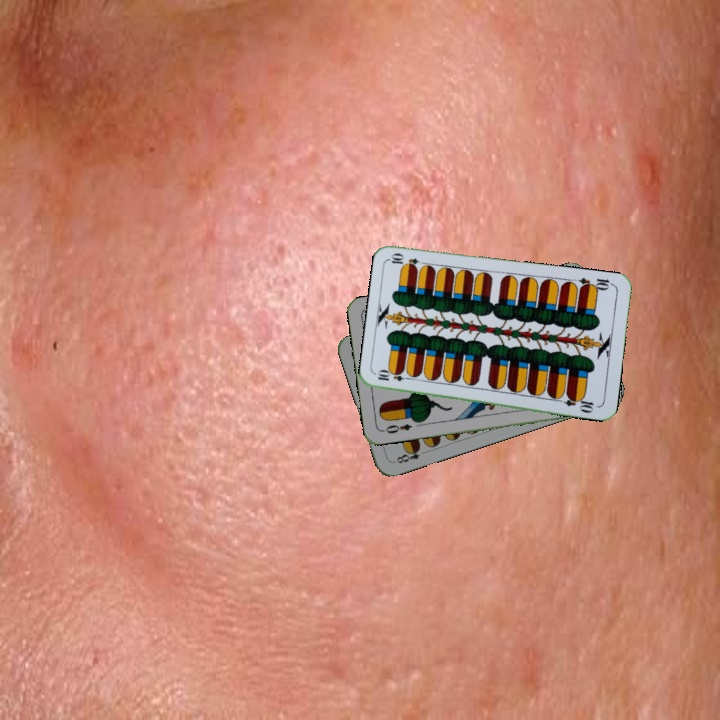E10: (575, 274, 616, 294), (373, 368, 414, 384)
E8: (390, 443, 430, 466)
EO: (378, 420, 414, 436)
